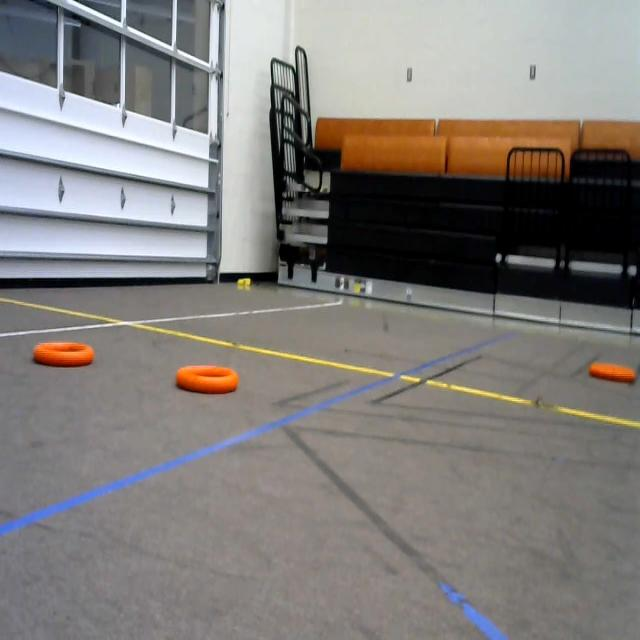note: (171, 358, 253, 411), (29, 337, 98, 373), (580, 349, 640, 383)
